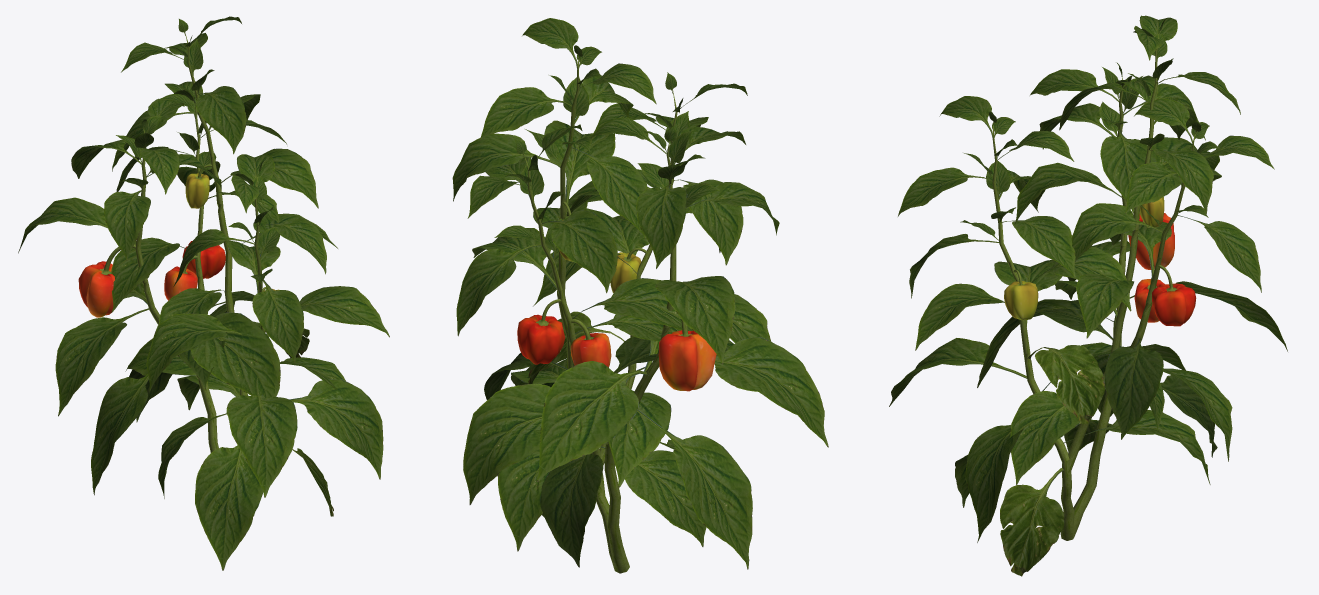
3 renders of one model, left to right at view 1: azimuth 30°, elevation 25°; view 2: azimuth 150°, elevation 25°; view 3: azimuth 270°, elevation 25°, orthographic. The views are drawn at different scales.
Parts seen in each view (by area): view 1: VG07_8; view 2: VG07_8; view 3: VG07_8.
Boxes of the visible parts, x1,y1,x2,y2 form: VG07_8: (18,16,389,570); VG07_8: (452,18,828,573); VG07_8: (889,15,1287,576).
Size of the model in its own units: 0.5766 by 0.847 by 0.6239.
7 materials, 7 textured.
